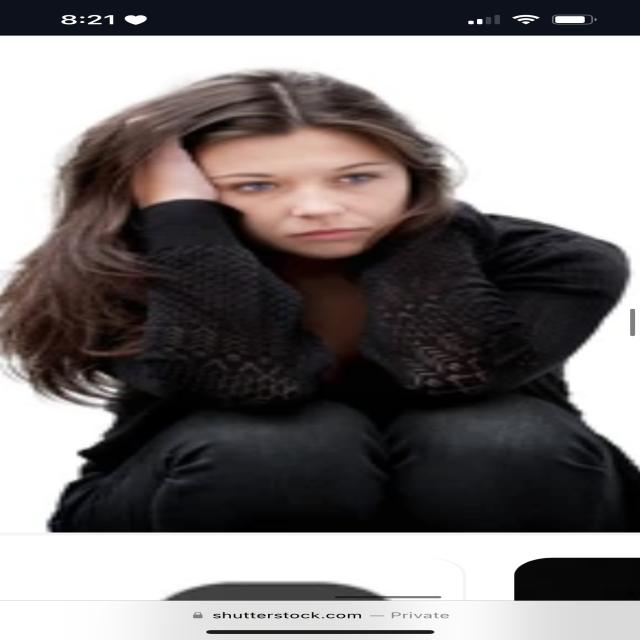natural: (117, 106, 463, 254)
